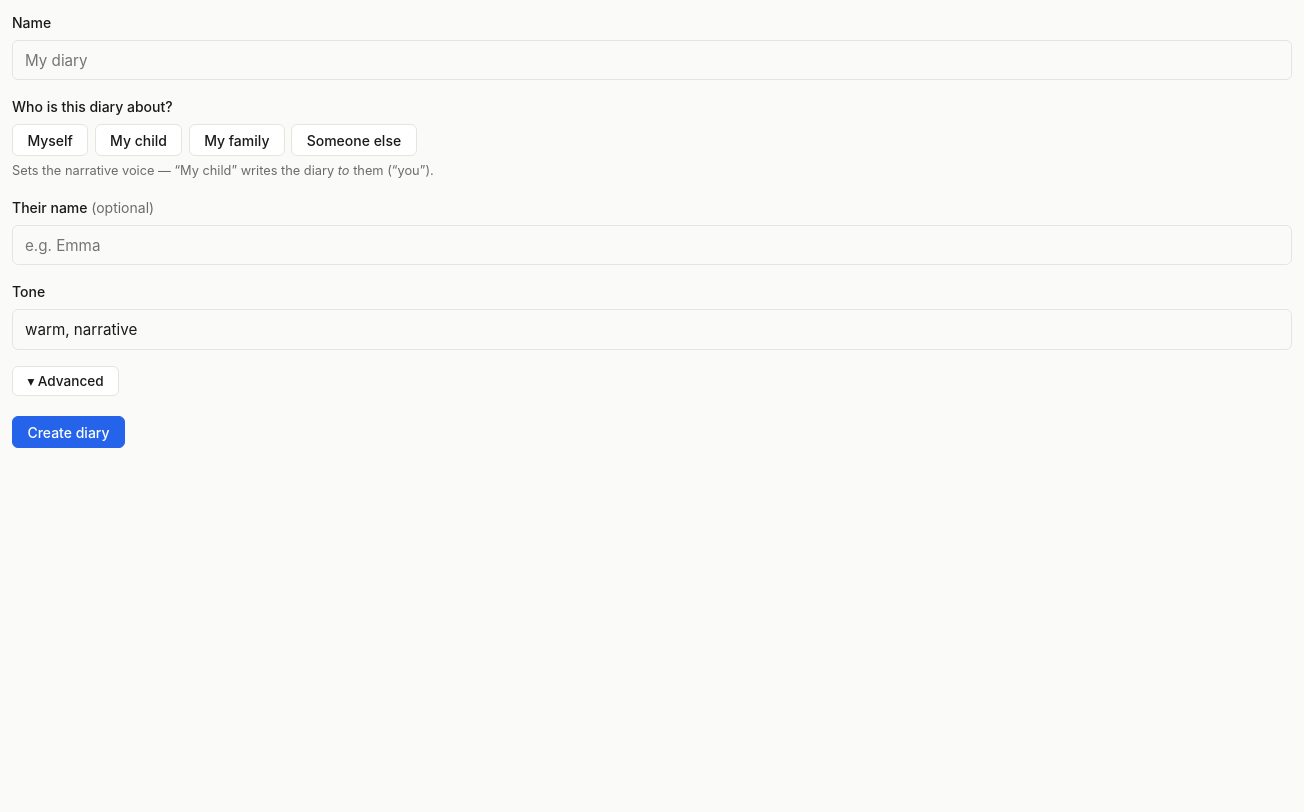
Test case: DiaryForm — Advanced section › reveals voice, scan frequency and timezone when Advanced is toggled
Click the button "▾ Advanced". click: {"x": 66, "y": 381}
box: [12,366,119,396]
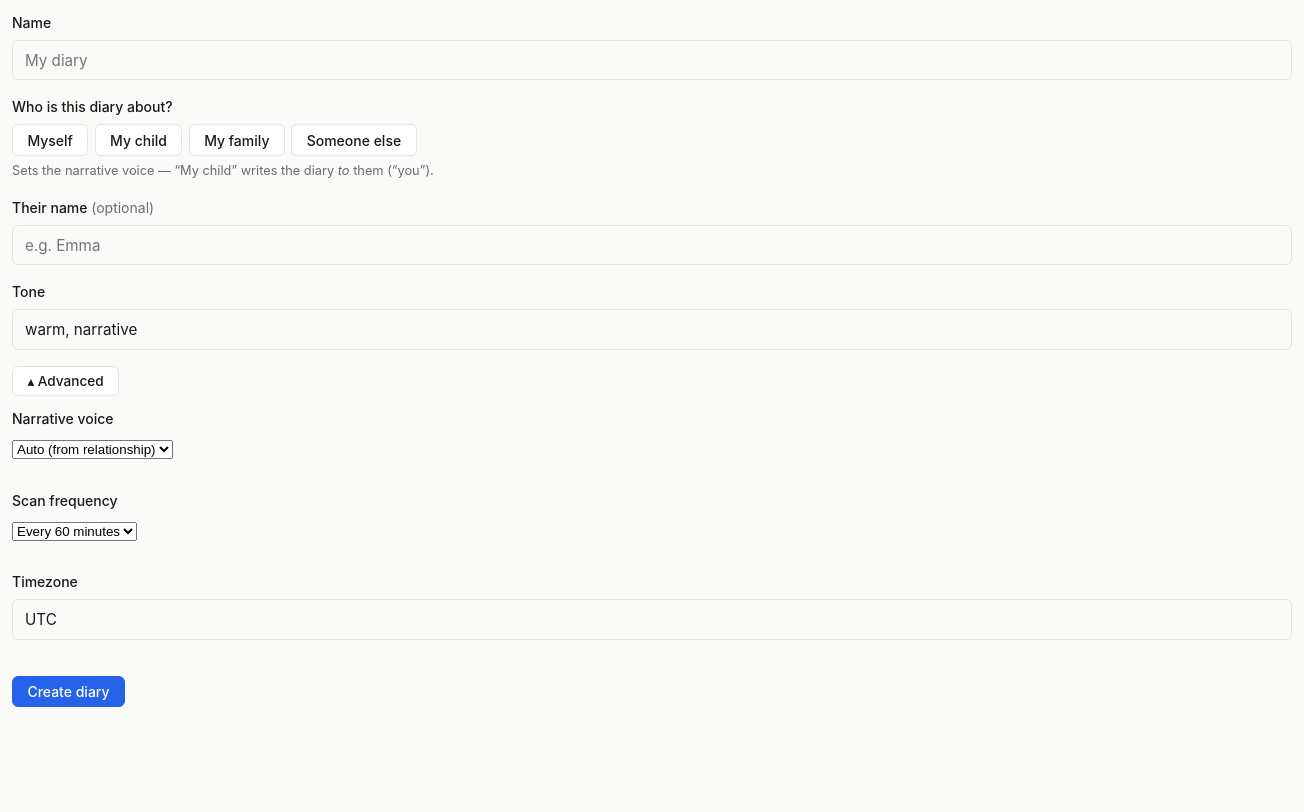
Expected: the dropdown labelled "Narrative voice" is shown, [12,440,173,459]
Expected: the dropdown labelled "Scan frequency" is shown, [12,522,137,541]
Expected: the field labelled "Timezone" is shown, [12,600,1292,640]
